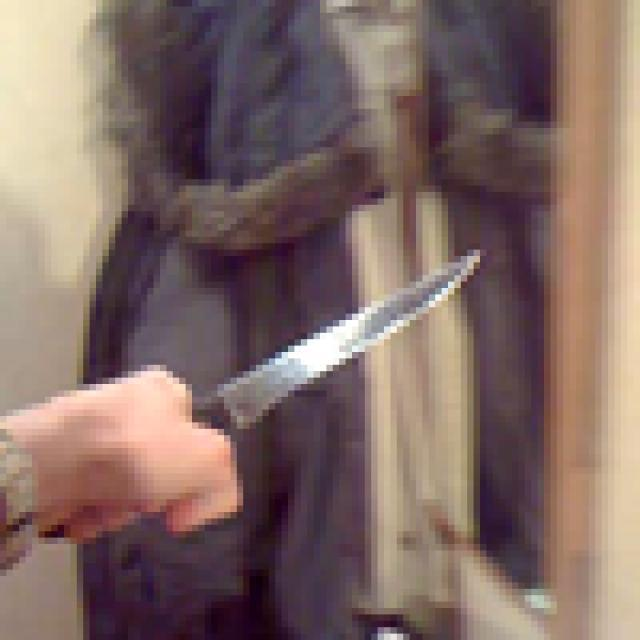Knife: (109, 217, 512, 473)
